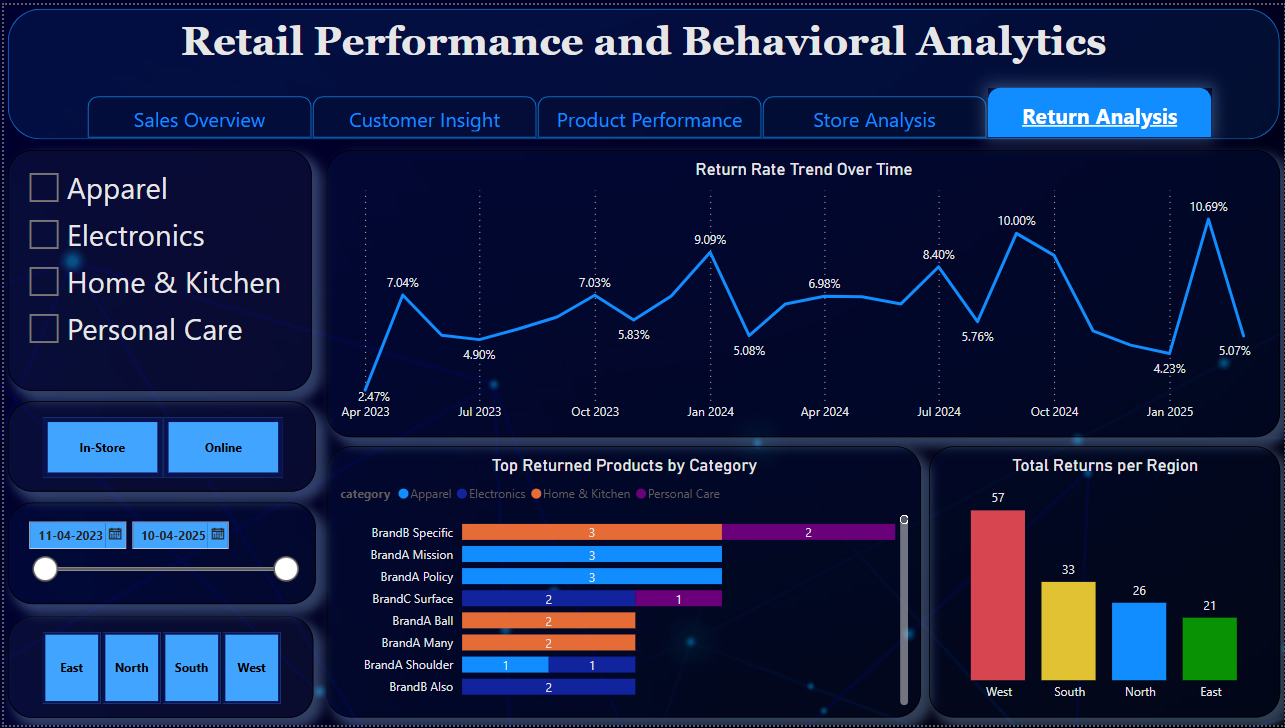

The page's visual inventory and layout, read from the dashboard file:
{"tool":"powerbi","page":{"name":"5. Return Analysis Report","canvas":[1280,720],"ordinal":4},"visuals":[{"type":"lineChart","title":"Return Rate Trend Over Time","fields":{"Y":["stores_cleaned.Return Rate by Category"],"Category":["sales_cleaned.order_date.Variation.Date Hierarchy.Year","sales_cleaned.order_date.Variation.Date Hierarchy.Month"]},"box":[322.7,145.5,953.5,287.3],"z":0},{"type":"barChart","title":"Top Returned Products by Category","fields":{"Category":["products_cleaned.product_name"],"Y":["CountNonNull(returns_cleaned.order_id)"],"Series":["products_cleaned.category"]},"box":[322.7,441.3,594.1,271.4],"z":1000},{"type":"clusteredColumnChart","title":"Total Returns per Region","fields":{"Category":["stores_cleaned.region"],"Y":["CountNonNull(returns_cleaned.return_id)"]},"box":[925.4,441.3,350.8,271.4],"z":2000},{"type":"shape","box":[3.7,3.7,1272,130.8],"z":3000},{"type":"shape","box":[83.9,91.7,223.7,41.6],"z":4000},{"type":"shape","box":[308.8,91.7,223.7,41.6],"z":5000},{"type":"shape","box":[533.8,91.7,223.7,41.6],"z":6000},{"type":"shape","box":[758.9,91.7,223.7,41.6],"z":7000},{"type":"shape","box":[984,83.1,223.7,50.1],"z":8000},{"type":"slicer","fields":{"Values":["products_cleaned.category"]},"box":[3.7,145.5,304.4,240.8],"z":9000},{"type":"slicer","fields":{"Values":["customers_cleaned.region"]},"box":[3.7,611.2,305.6,101.5],"z":10000},{"type":"slicer","fields":{"Values":["sales_cleaned.sales_channel"]},"box":[3.7,396.1,308,90.5],"z":11000},{"type":"slicer","fields":{"Values":["sales_cleaned.order_date"]},"box":[3.7,497.5,308,101.5],"z":12000}]}

Visuals, with their boxes in screenshot pixels (x1, y1, x2, y2), scaled from the page's 1280x720 canvas onto the 1285x728 screenshot:
"Return Rate Trend Over Time" lineChart: detection(324, 147, 1281, 438)
"Top Returned Products by Category" barChart: detection(324, 446, 920, 721)
"Total Returns per Region" clusteredColumnChart: detection(929, 446, 1281, 721)
shape: detection(4, 4, 1281, 136)
shape: detection(84, 93, 309, 135)
shape: detection(310, 93, 535, 135)
shape: detection(536, 93, 760, 135)
shape: detection(762, 93, 986, 135)
shape: detection(988, 84, 1212, 135)
slicer - products_cleaned.category: detection(4, 147, 309, 391)
slicer - customers_cleaned.region: detection(4, 618, 311, 721)
slicer - sales_cleaned.sales_channel: detection(4, 401, 313, 492)
slicer - sales_cleaned.order_date: detection(4, 503, 313, 606)
